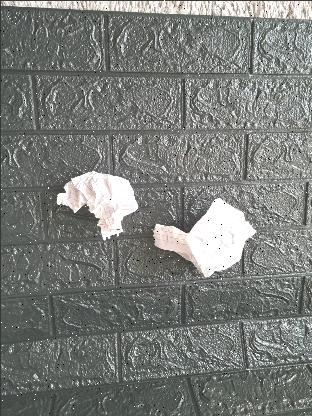Others: (152, 204, 258, 272), (56, 171, 138, 237)
